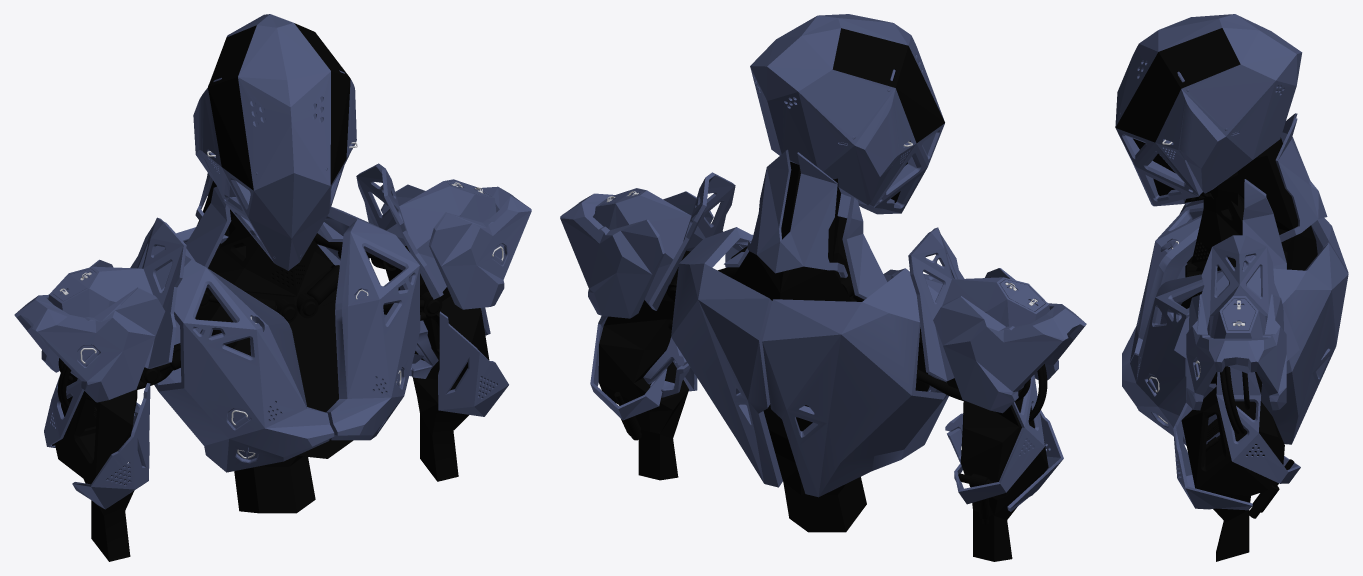
File: Hero-animation.glb
The picture shows the model from 3 angles, left to right: view 1: azimuth 30°, elevation 25°; view 2: azimuth 150°, elevation 25°; view 3: azimuth 270°, elevation 25°; orthographic projection. The views are drawn at different scales.
Visible parts, largest first — view 1: Line018, Empty, Cylinder003, PolyGroup006, PolyGroup008, Box018, eyes, PolyGroup007, Box020, PolyGroup009, Object014, Object012 (+4 smaller); view 2: Line018, Empty, PolyGroup006, Cylinder003, PolyGroup009, PolyGroup008, Object005, Box018, PolyGroup007, Box020, eyes, Object011 (+4 smaller); view 3: Empty, Line018, PolyGroup009, Box020, PolyGroup008, Cylinder003, eyes, Object013, Object005, Plane006, Object014, Line002 (+4 smaller).
Boxes of the visible parts, left/top/right/bottom form: Line018: left=153, top=207, right=420, bottom=472; Empty: left=193, top=14, right=356, bottom=270; Cylinder003: left=195, top=181, right=353, bottom=513; PolyGroup006: left=14, top=259, right=165, bottom=402; PolyGroup008: left=381, top=184, right=531, bottom=309; Box018: left=48, top=217, right=186, bottom=368; eyes: left=208, top=23, right=350, bottom=190; PolyGroup007: left=55, top=373, right=137, bottom=561; Box020: left=356, top=163, right=496, bottom=299; PolyGroup009: left=386, top=246, right=489, bottom=481; Object014: left=438, top=311, right=508, bottom=416; Object012: left=72, top=383, right=150, bottom=509; Line018: left=671, top=227, right=948, bottom=497; Empty: left=750, top=14, right=944, bottom=214; PolyGroup006: left=933, top=268, right=1086, bottom=413; Cylinder003: left=732, top=161, right=929, bottom=532; PolyGroup009: left=598, top=250, right=690, bottom=480; PolyGroup008: left=560, top=191, right=713, bottom=318; Object005: left=747, top=149, right=847, bottom=277; Box018: left=908, top=227, right=1049, bottom=381; PolyGroup007: left=946, top=378, right=1048, bottom=561; Box020: left=594, top=172, right=735, bottom=310; eyes: left=832, top=28, right=944, bottom=143; Object011: left=954, top=375, right=1044, bottom=504; Empty: left=1115, top=14, right=1302, bottom=206; Line018: left=1122, top=202, right=1348, bottom=444; PolyGroup009: left=1181, top=372, right=1284, bottom=561; Box020: left=1174, top=235, right=1299, bottom=373; PolyGroup008: left=1186, top=294, right=1286, bottom=410; Cylinder003: left=1181, top=137, right=1317, bottom=452; eyes: left=1115, top=28, right=1240, bottom=142; Object013: left=1216, top=367, right=1300, bottom=483; Object005: left=1275, top=113, right=1327, bottom=242; Plane006: left=1242, top=179, right=1286, bottom=269; Object014: left=1173, top=403, right=1252, bottom=510; Line002: left=1184, top=171, right=1237, bottom=210.
Size of the model in its own units: 0.582 by 0.5499 by 0.252.
